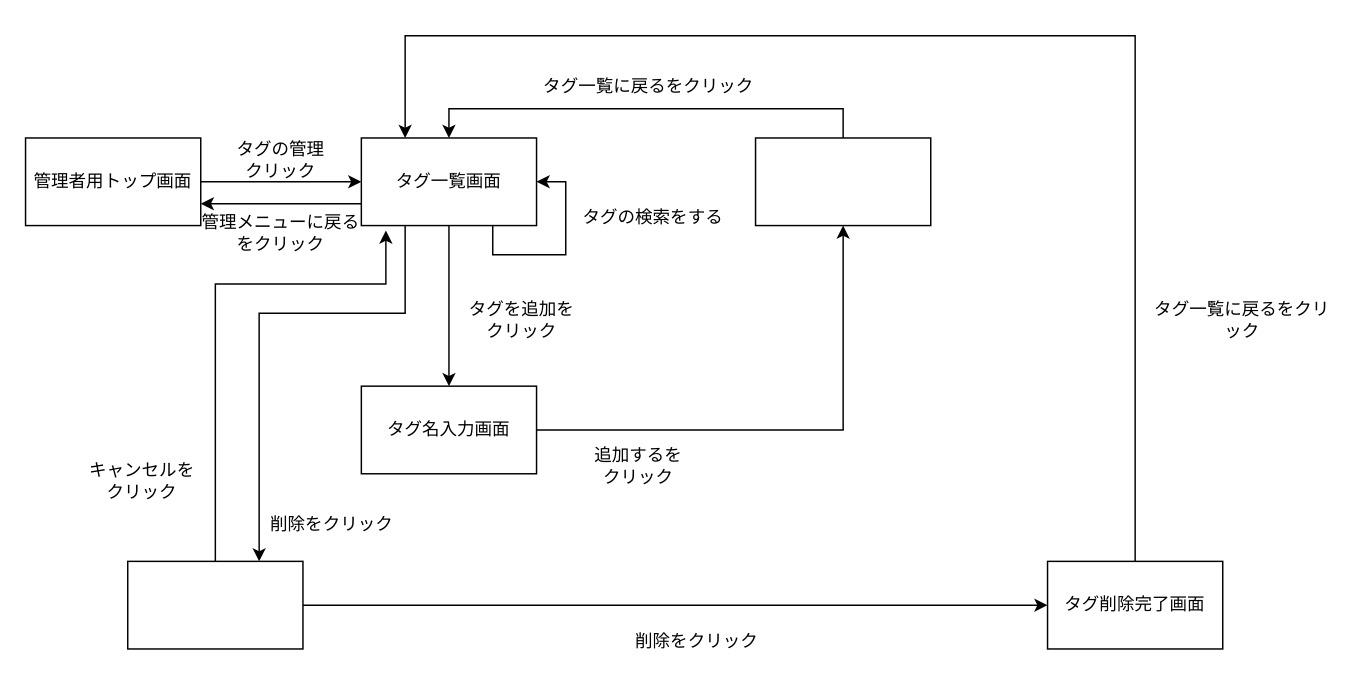
Some shapes in this 1365 by 689 pixel diagram are drawn without their labels. The shapes that lost their labels are listed below. From the top down, each one's centre as x and y in pixels, then its label:
At (842,181): "タグ追加完了画面".
At (214,604): "タグ削除確認画面".
